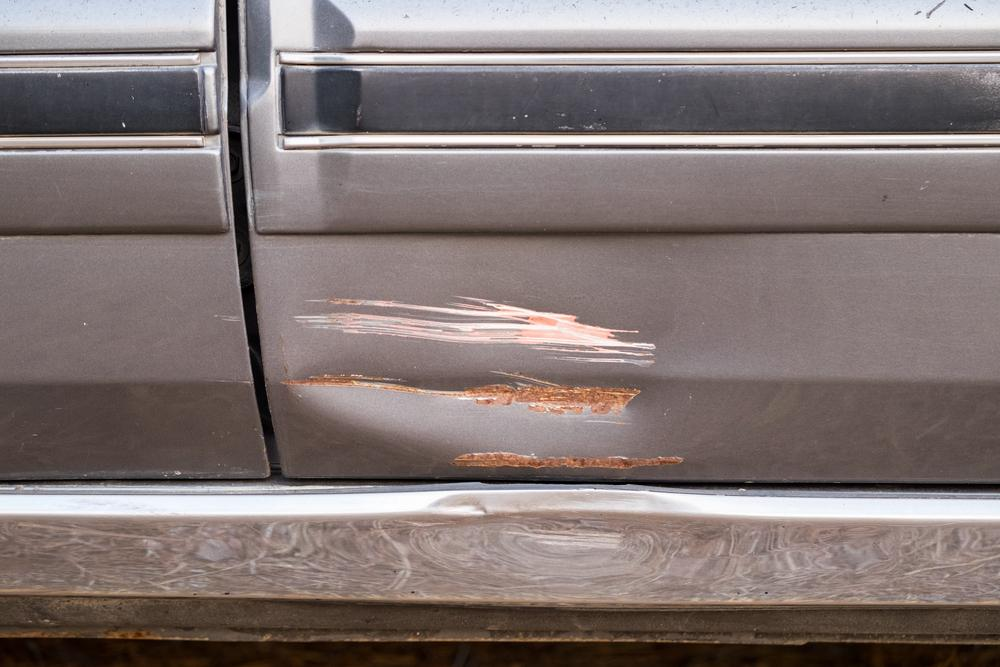dent: (292, 348, 670, 452)
scratch: (292, 294, 661, 373)
